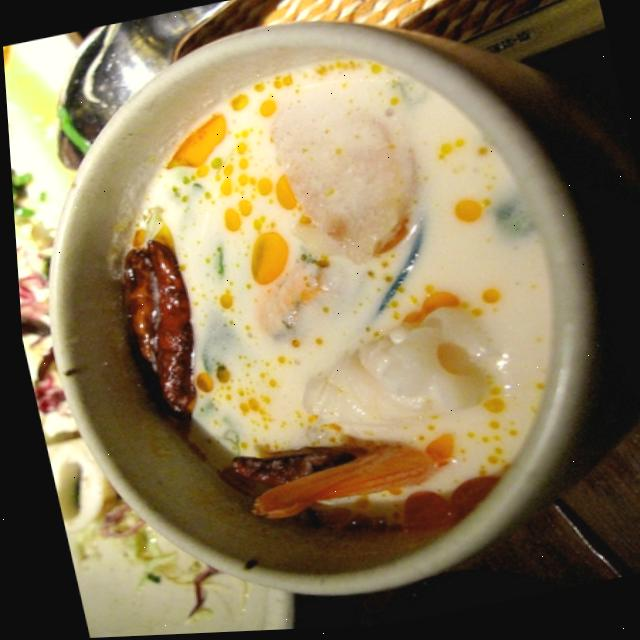汤锅炖物: (23, 15, 614, 599)
